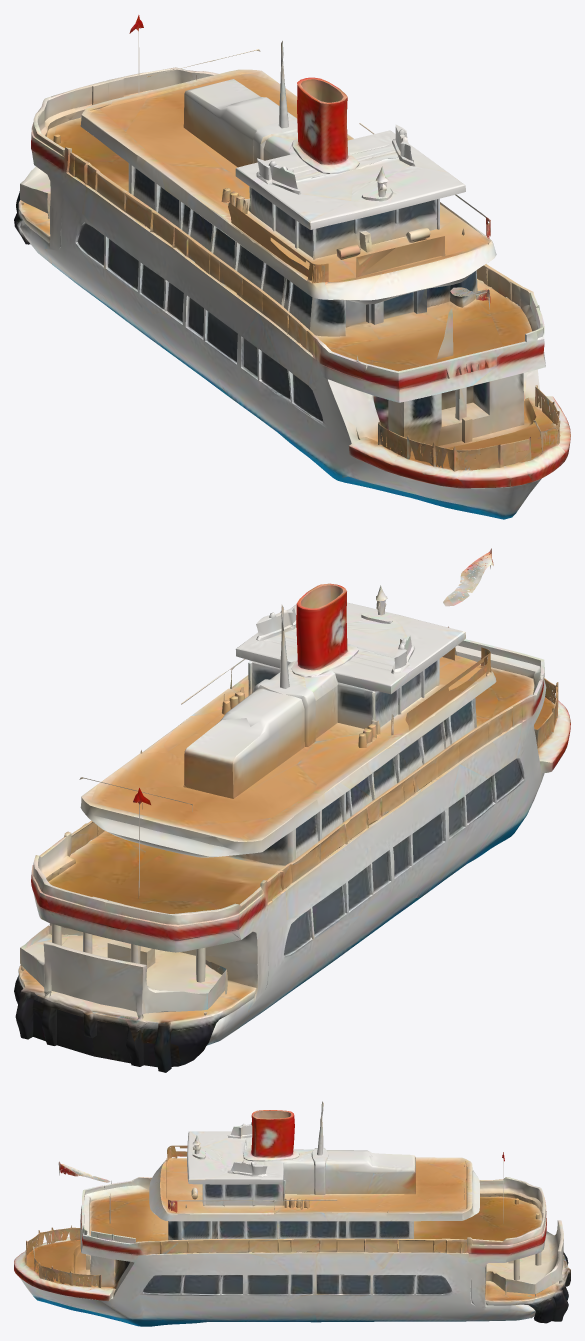
File: base_basic_pbr.glb
3 renders of one model, top to bottom at view 1: azimuth 30°, elevation 25°; view 2: azimuth 150°, elevation 25°; view 3: azimuth 270°, elevation 25°, orthographic. The views are drawn at different scales.
Visible parts, largest first — view 1: model; view 2: model; view 3: model.
Part boxes in pixels (bbox=[...]): model: bbox=[14, 15, 570, 519]; model: bbox=[14, 548, 570, 1072]; model: bbox=[14, 1101, 570, 1326].
Bounding box in the file's own units: 0.528 × 0.742 × 1.89.
Materials: 1 (1 with a texture image).
